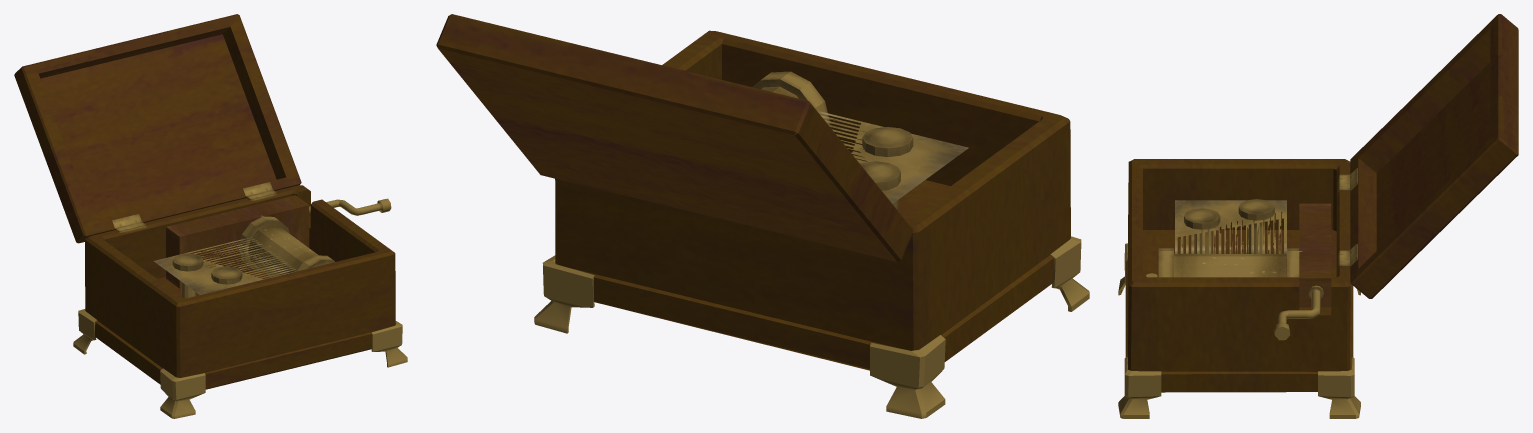
The model's file is musicbox_fbx_2.fbx.
3 renders of one model, left to right at view 1: azimuth 30°, elevation 25°; view 2: azimuth 150°, elevation 25°; view 3: azimuth 270°, elevation 25°, orthographic. The views are drawn at different scales.
Visible parts, largest first — view 1: sita1, ue; view 2: sita1, ue; view 3: sita1, ue.
Boxes of the visible parts, x1,y1,x2,y2 form: sita1: (73,185,407,418); ue: (14,14,301,243); sita1: (534,30,1089,418); ue: (436,14,913,261); sita1: (1118,159,1360,418); ue: (1350,14,1518,298).
Size of the model in its own units: 14.03 by 10.98 by 14.48.
